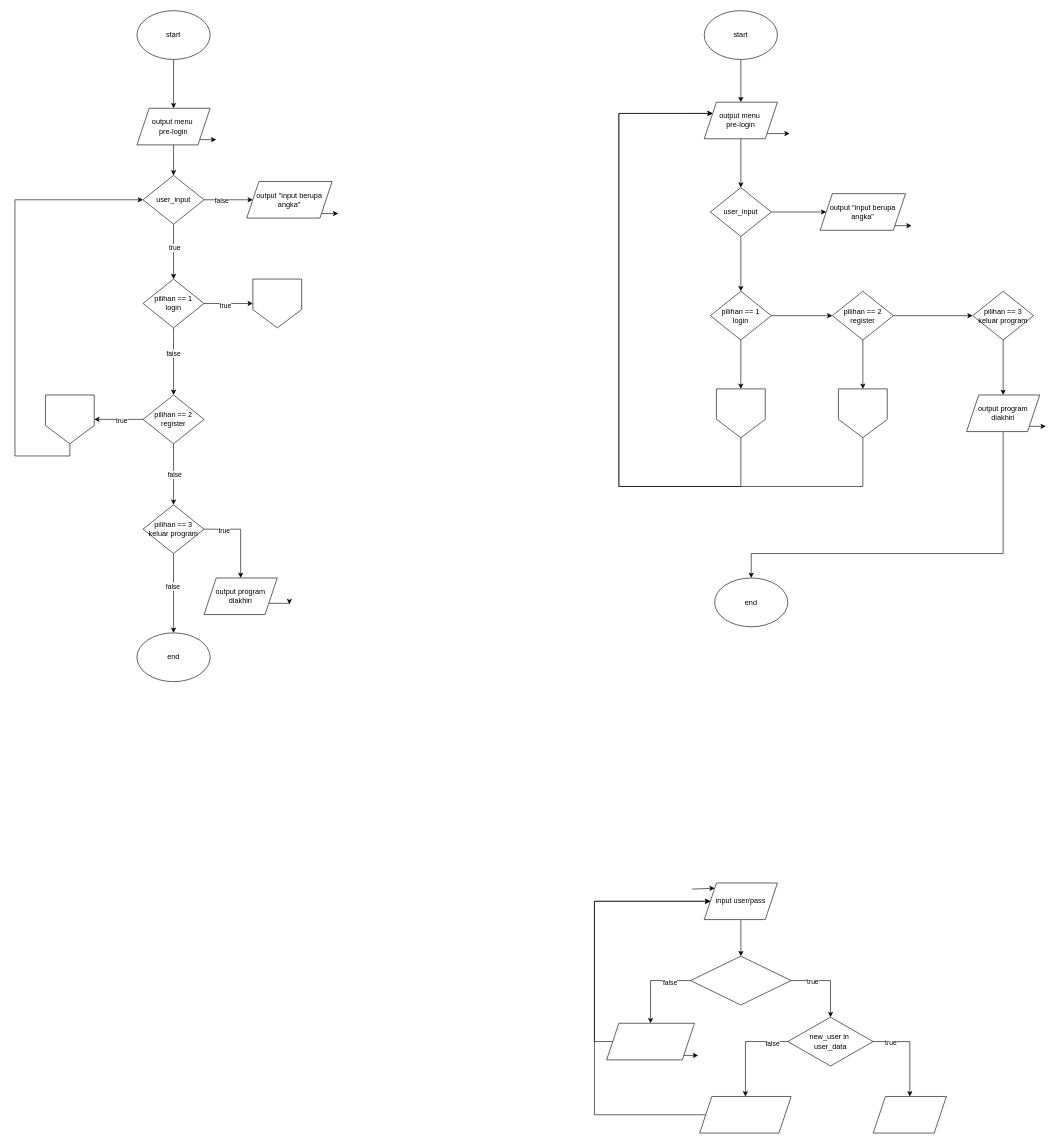
Image size: 1061x1144. Some labels were removed from this diagram. The box of each missing label's shape, as (x1, y1, x2, y2) in pixels:
not new_user/new_pass: (690, 956, 791, 1005)
output regis berhasil: (699, 1096, 791, 1133)
output user sdh terdata: (873, 1096, 946, 1133)
pass & user tidak boleh kosong: (606, 1023, 694, 1060)
